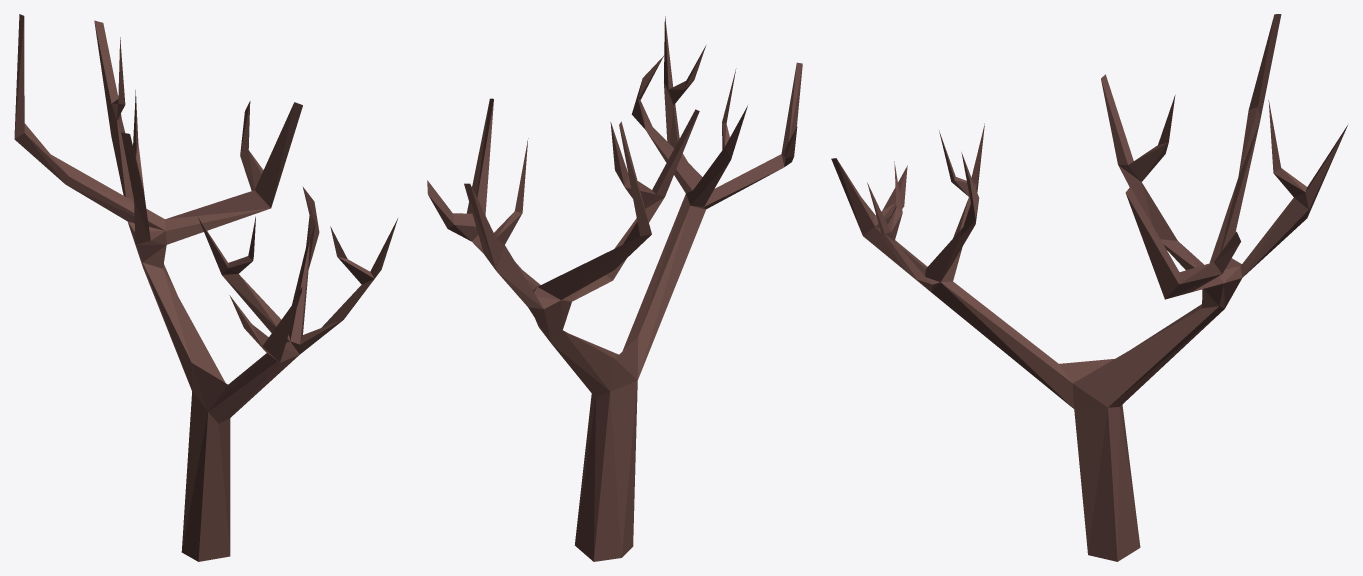
Rendered from CommonTree_Dead_1.lod3.glb.
3 views of the same model, side by side, from view 1: azimuth 30°, elevation 25°; view 2: azimuth 150°, elevation 25°; view 3: azimuth 270°, elevation 25° (orthographic). The views are drawn at different scales.
Parts seen in each view (by area): view 1: CommonTree_Dead_1; view 2: CommonTree_Dead_1; view 3: CommonTree_Dead_1.
Boxes of the visible parts, x1,y1,x2,y2 form: CommonTree_Dead_1: (14,14,397,561); CommonTree_Dead_1: (427,16,802,561); CommonTree_Dead_1: (831,14,1347,561).
Bounding box in the file's own units: 1.05 × 2.2 × 2.12.
